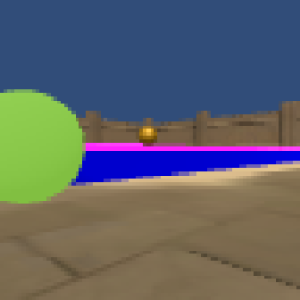goodGoal: (1, 89, 85, 205)
goodGoalMulti: (135, 125, 160, 148)
platform: (84, 151, 300, 181)
ramp: (85, 143, 300, 151)
